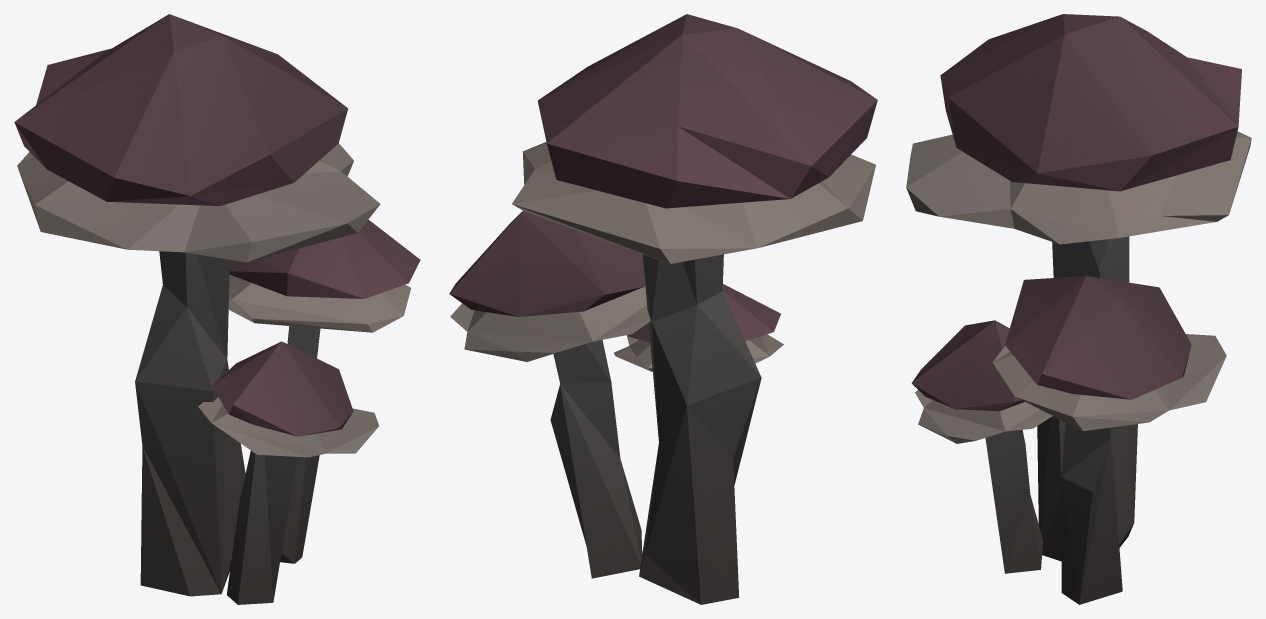
Rendered from Mush_2A_LOD.fbx.
3 views of the same model, side by side, from view 1: azimuth 30°, elevation 25°; view 2: azimuth 150°, elevation 25°; view 3: azimuth 270°, elevation 25° (orthographic). The views are drawn at different scales.
Visible parts, largest first — view 1: polySurface1317; view 2: polySurface1317; view 3: polySurface1317.
Part boxes in pixels (x1,y1,x2,y2): polySurface1317: (14,14,420,604); polySurface1317: (449,14,877,604); polySurface1317: (906,14,1251,604).
Size of the model in its own units: 1.73 by 2.46 by 1.43.
